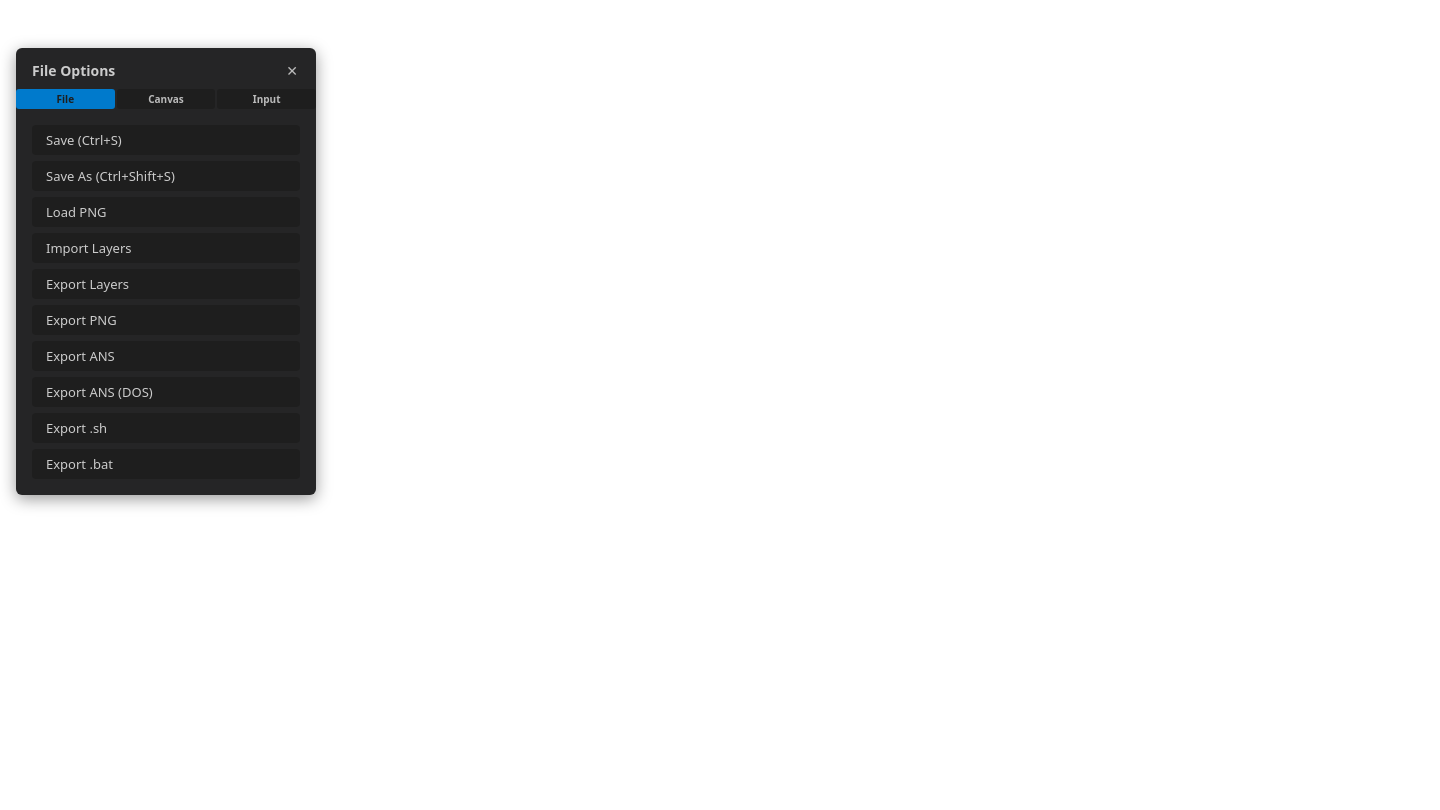
Test: FileOptionsModal › tabs › switches to Input tab content on click
What coordinates should you click on to do the following:
click the tab with test id "file-options-tab-input"
I would click on:
 (267, 99)
Its box is [217,89,316,109].
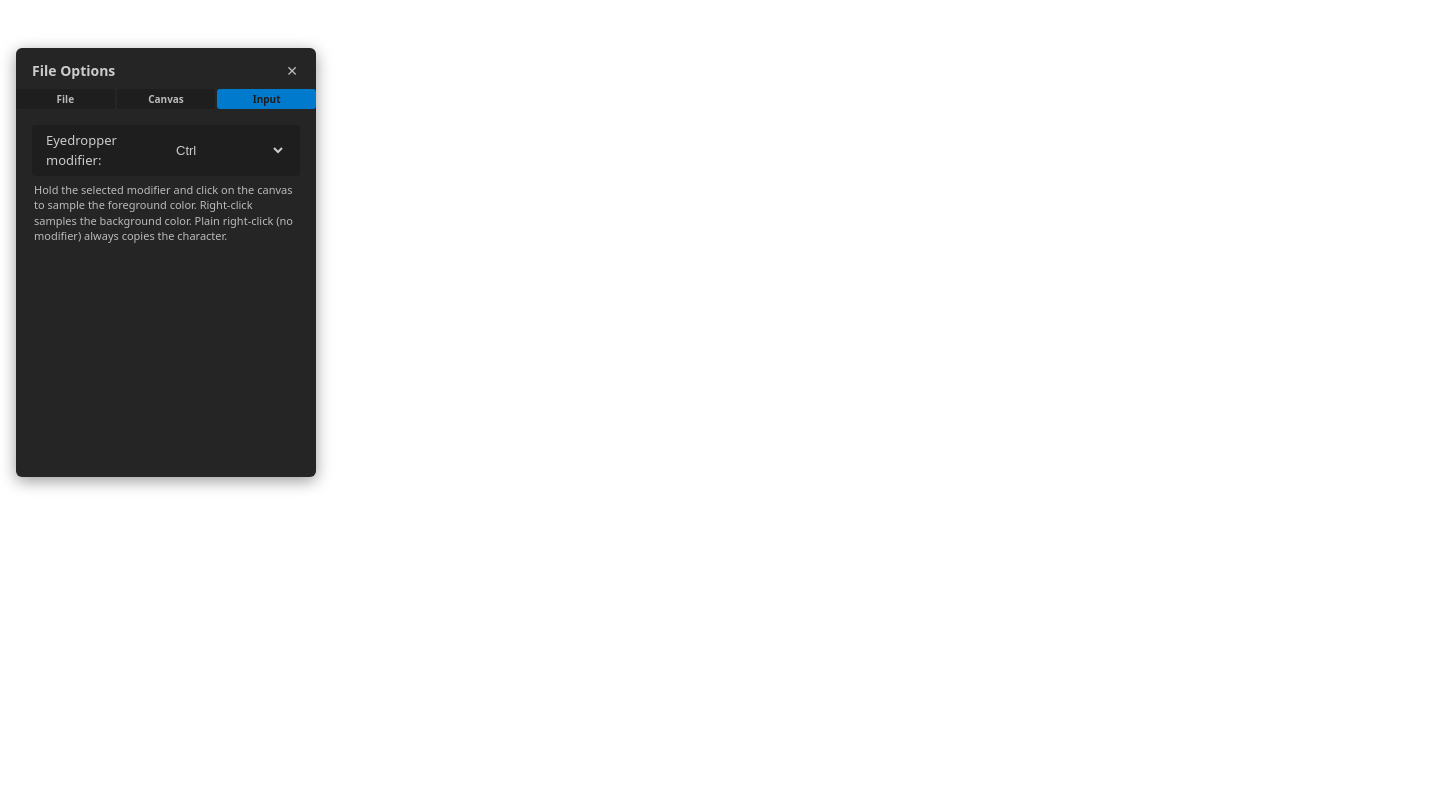
Check: the dropdown with test id "file-eyedropper-modifier" is shown, box [166,138,286,163]
Check: the button with test id "file-save" is gone
